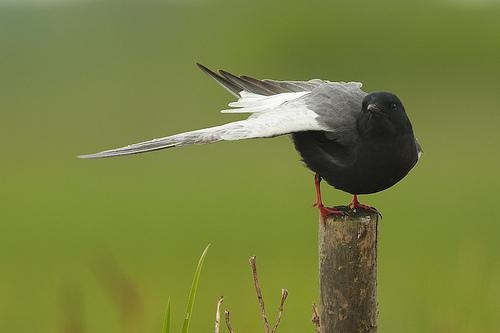bird: (74, 62, 423, 229)
